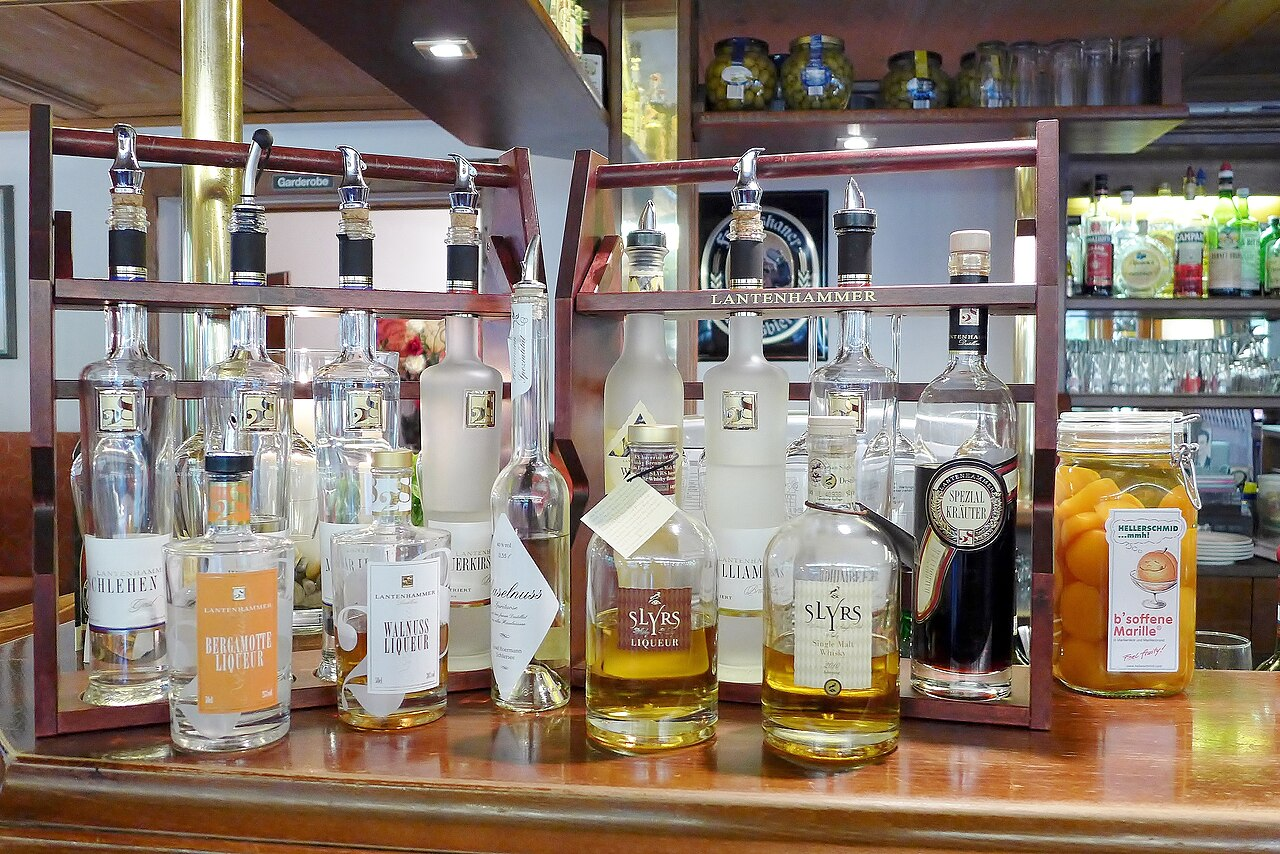unknown_bottle: (585, 266, 718, 761), (910, 234, 1020, 703), (760, 415, 903, 769), (582, 432, 719, 757), (71, 303, 181, 706), (1050, 410, 1199, 700), (488, 237, 573, 717), (164, 454, 294, 754), (702, 312, 790, 702), (201, 194, 295, 537), (416, 313, 503, 666), (809, 208, 897, 523), (602, 231, 686, 511), (107, 123, 149, 281), (334, 146, 376, 289), (1208, 164, 1243, 298), (1173, 175, 1210, 298), (1083, 185, 1115, 298), (445, 193, 481, 292)
